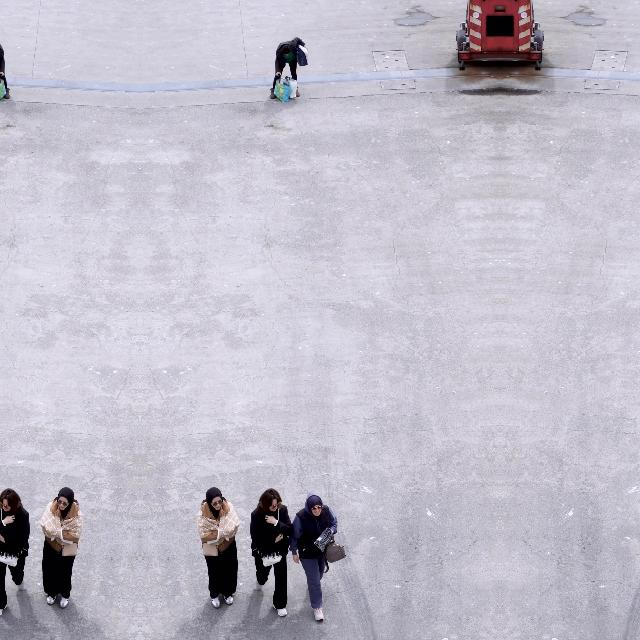person: (290, 492, 338, 622), (250, 488, 292, 618), (197, 487, 240, 609), (41, 487, 84, 609), (0, 488, 30, 617), (270, 36, 308, 100), (0, 36, 10, 99)
